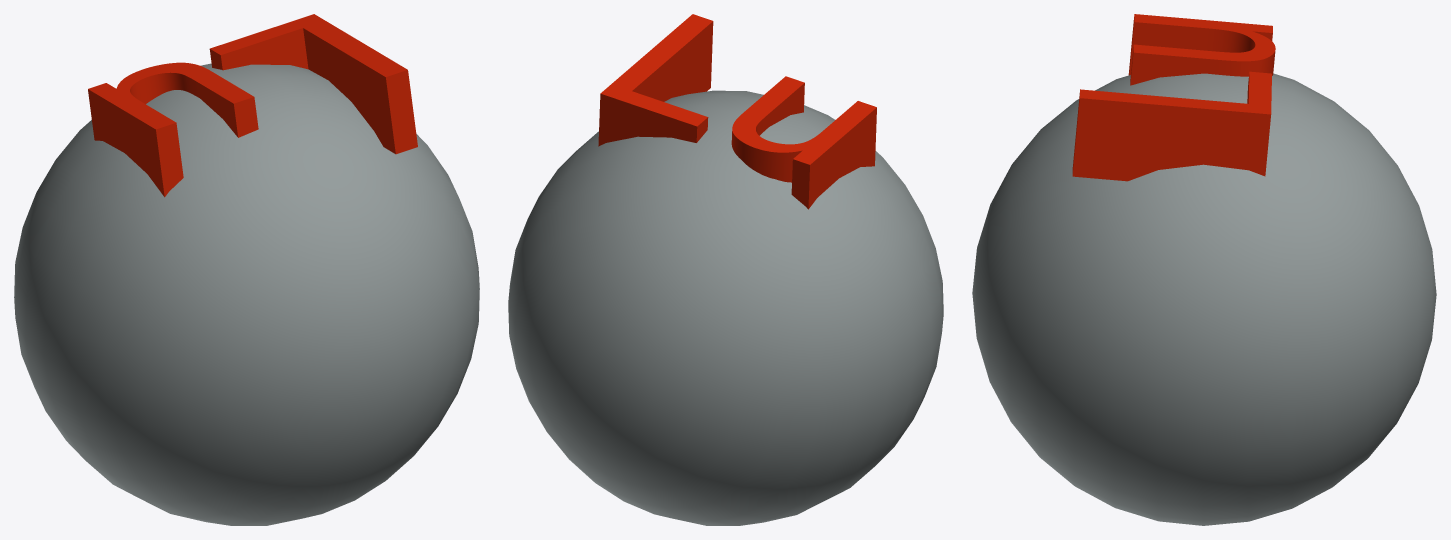
The picture shows the model from 3 angles, left to right: view 1: azimuth 30°, elevation 25°; view 2: azimuth 150°, elevation 25°; view 3: azimuth 270°, elevation 25°; orthographic projection. The views are drawn at different scales.
Parts seen in each view (by area): view 1: Lu; view 2: Lu; view 3: Lu.
Part boxes in pixels (x1,y1,x2,y2): Lu: (14,14,479,525); Lu: (508,14,943,525); Lu: (972,14,1436,525).
Bounding box in the file's own units: 38.67 × 41.75 × 38.75.
